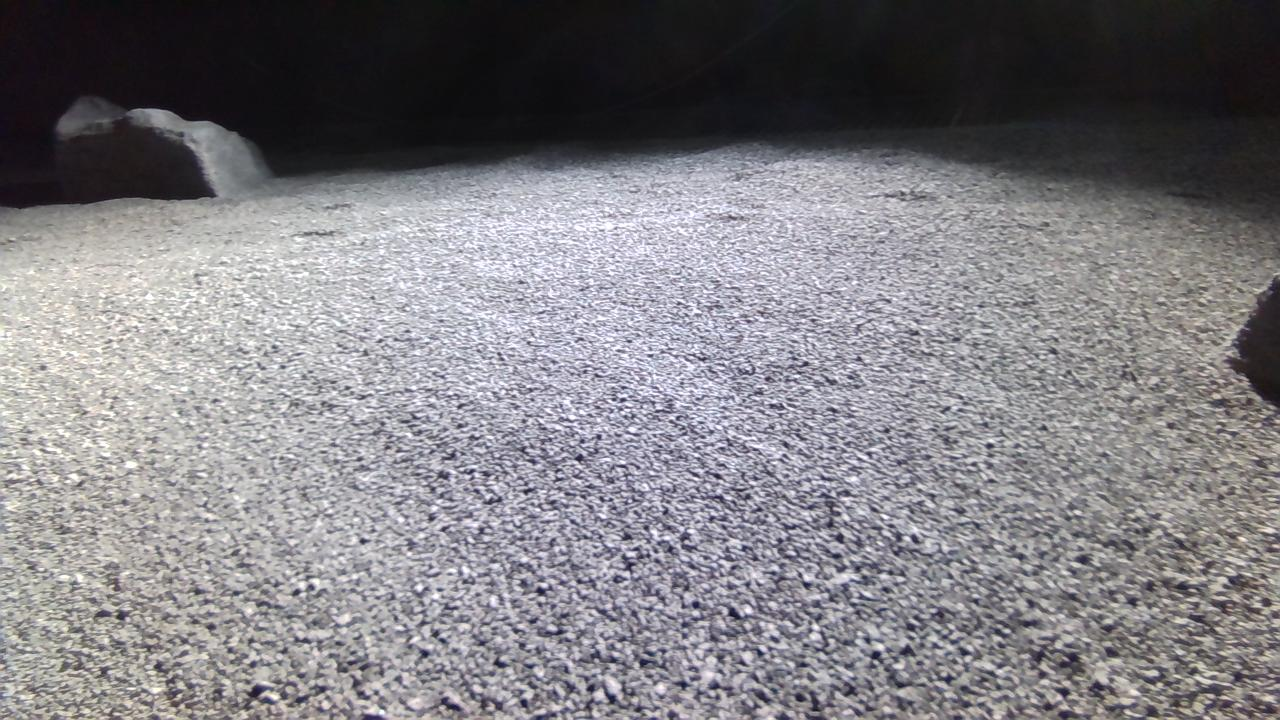rock: (55, 94, 270, 202), (1240, 276, 1280, 401)
